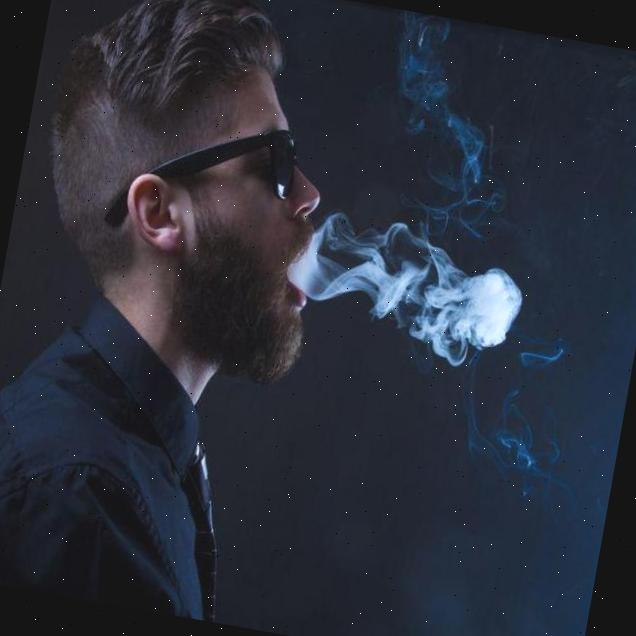smoke: (294, 222, 524, 373)
